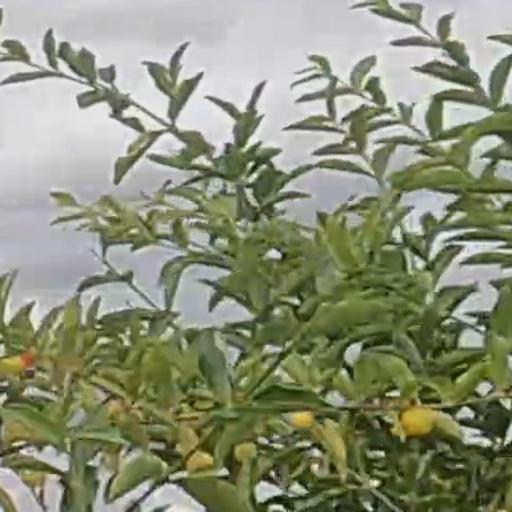acerola_verde: (402, 410, 434, 436)
